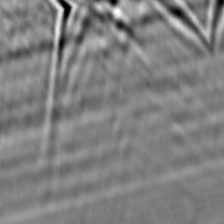Utility: (38, 0, 224, 76)
